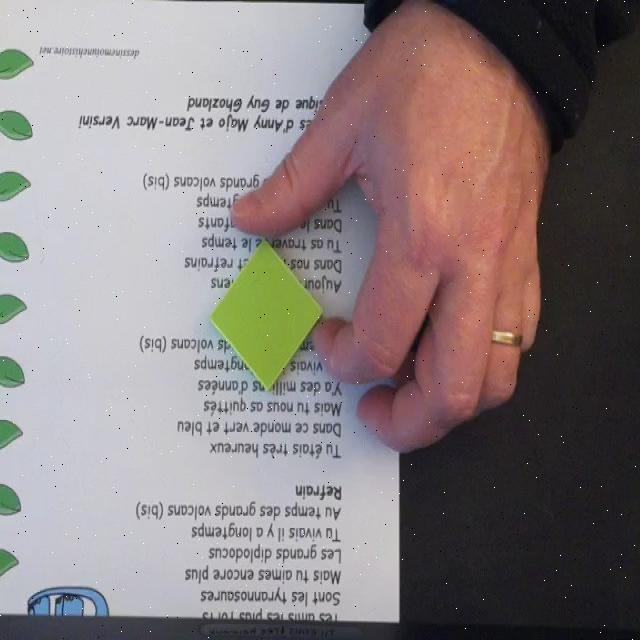square: (208, 238, 324, 392)
